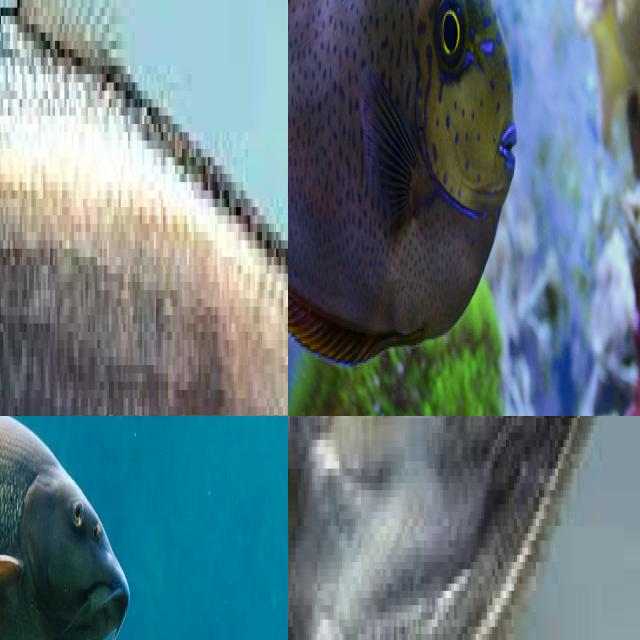fish: (0, 0, 288, 416), (288, 0, 518, 357), (288, 416, 640, 640), (0, 416, 288, 640)
